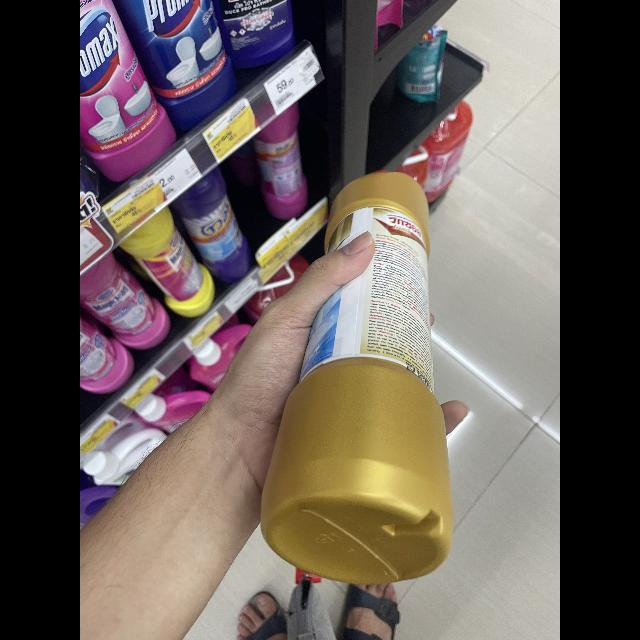chemical_plastic_bottle: (260, 155, 468, 591)
